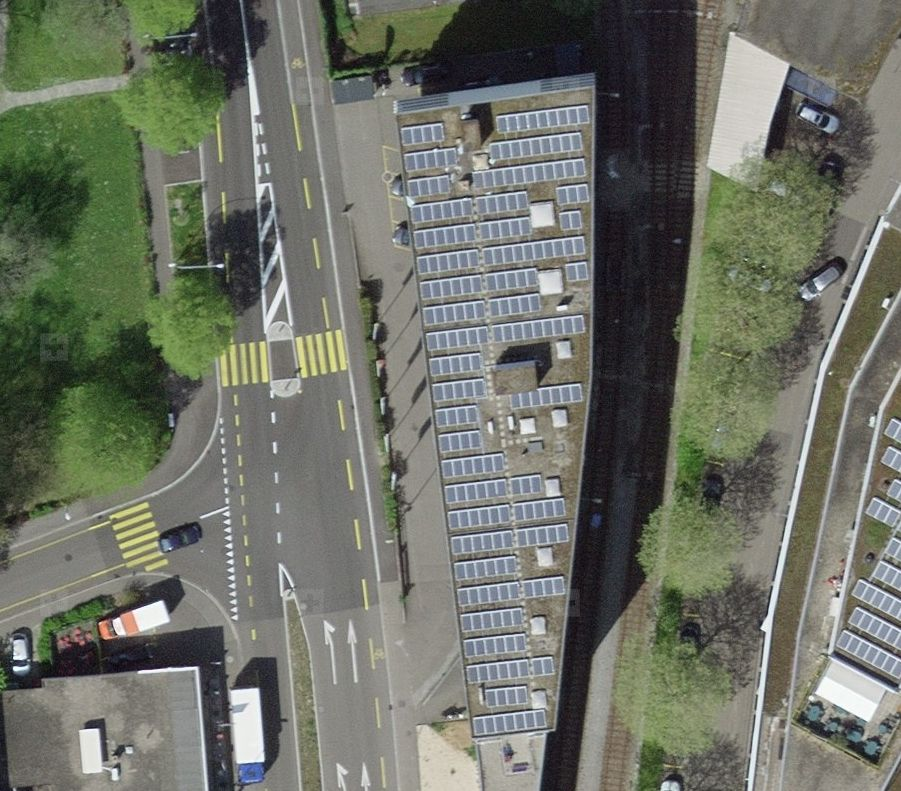solar: (399, 104, 590, 736), (834, 417, 901, 679)
